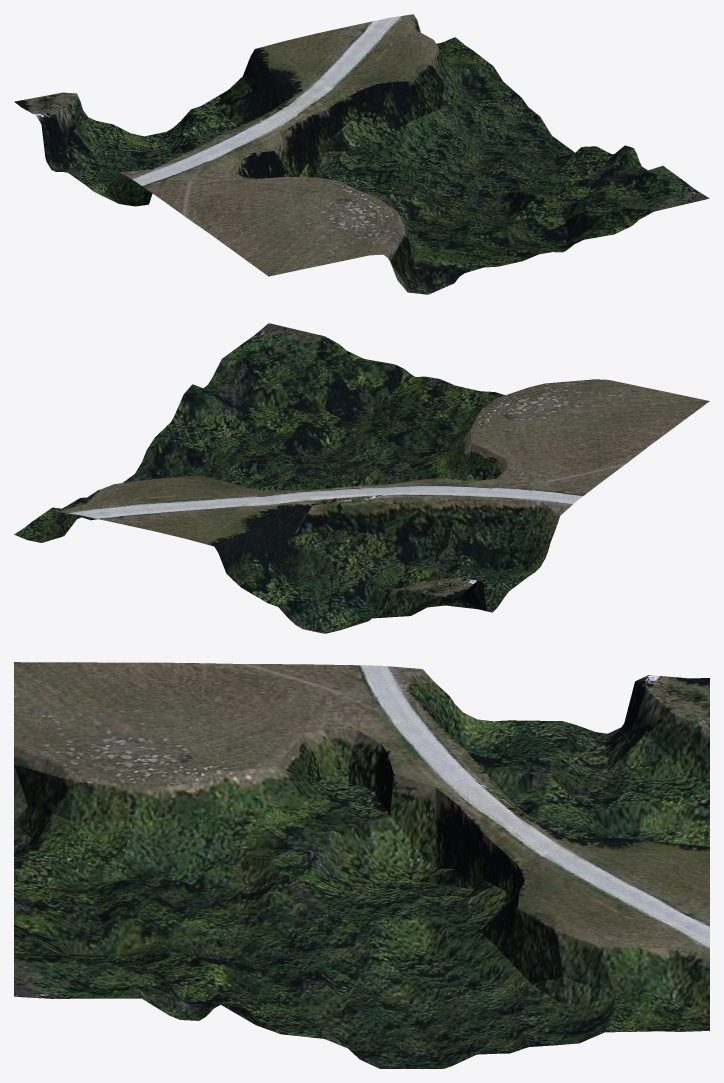
Rendered from map_15_8177_13783.dae.
3 renders of one model, top to bottom at view 1: azimuth 30°, elevation 25°; view 2: azimuth 150°, elevation 25°; view 3: azimuth 270°, elevation 25°, orthographic. The views are drawn at different scales.
Parts seen in each view (by area): view 1: Ter0; view 2: Ter0; view 3: Ter0.
Part boxes in pixels (<box>): Ter0: <box>14,14,709,294</box>; Ter0: <box>14,323,709,633</box>; Ter0: <box>14,662,709,1068</box>.
Size of the model in its own units: 63.87 by 63.88 by 11.62.
3 materials, 3 textured.
